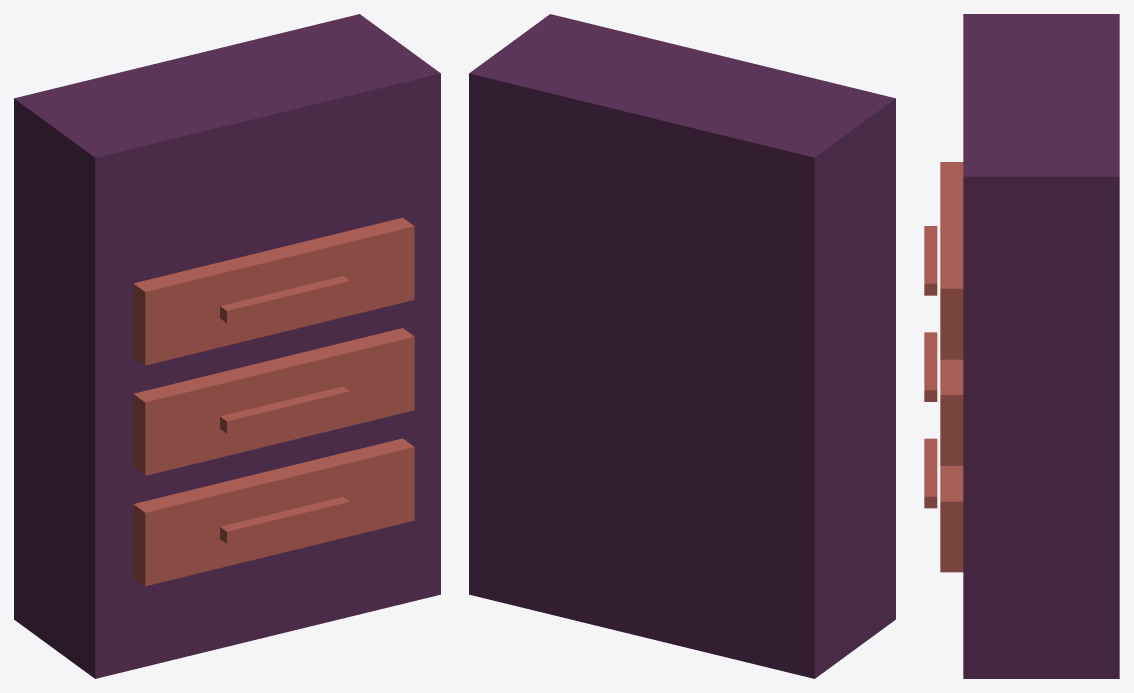
The model's file is night-stand.obj.
3 renders of one model, left to right at view 1: azimuth 30°, elevation 25°; view 2: azimuth 150°, elevation 25°; view 3: azimuth 270°, elevation 25°, orthographic. The views are drawn at different scales.
Parts seen in each view (by area): view 1: storage-body, soft-drawer-0-78, soft-drawer-1-14, soft-drawer-0-42, drawer-pull-0-42, drawer-pull-0-78, drawer-pull-1-14; view 2: storage-body; view 3: storage-body, soft-drawer-1-14, soft-drawer-0-42, soft-drawer-0-78, drawer-pull-0-42, drawer-pull-0-78, drawer-pull-1-14.
Part boxes in pixels (x1,y1,x2,y2): storage-body: (14,14,440,678); soft-drawer-0-78: (133,328,414,475); soft-drawer-1-14: (133,217,414,365); soft-drawer-0-42: (133,438,414,586); drawer-pull-0-42: (220,497,349,543); drawer-pull-0-78: (220,386,349,433); drawer-pull-1-14: (220,276,349,322); storage-body: (469,14,895,678); storage-body: (963,14,1119,678); soft-drawer-1-14: (940,162,963,359); soft-drawer-0-42: (940,466,963,572); soft-drawer-0-78: (940,359,963,465); drawer-pull-0-42: (924,438,937,508); drawer-pull-0-78: (924,332,937,401); drawer-pull-1-14: (924,226,937,295).
Size of the model in its own units: 1.18 by 1.7 by 0.6.
